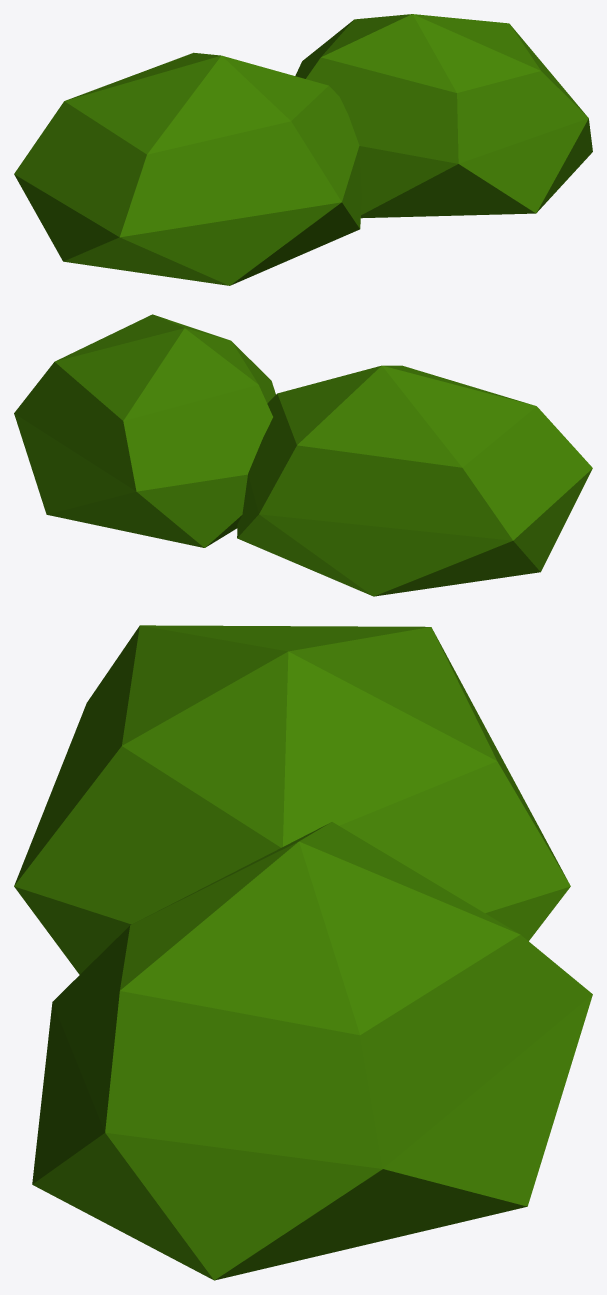
The model's file is Bush3.fbx.
3 views of the same model, one above another, from view 1: azimuth 30°, elevation 25°; view 2: azimuth 150°, elevation 25°; view 3: azimuth 270°, elevation 25° (orthographic). The views are drawn at different scales.
Parts seen in each view (by area): view 1: Icosphere; view 2: Icosphere; view 3: Icosphere.
Part boxes in pixels (box(x1,y1,x2,y2)): Icosphere: box(14, 14, 592, 285); Icosphere: box(14, 314, 592, 596); Icosphere: box(14, 625, 592, 1280).
Bounding box in the file's own units: 1.88 × 0.6254 × 0.9763.
